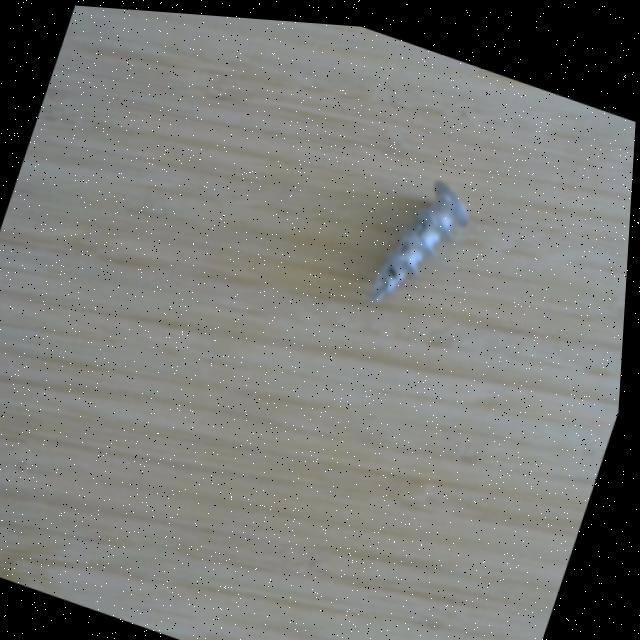Short screw: (363, 164, 481, 305)
